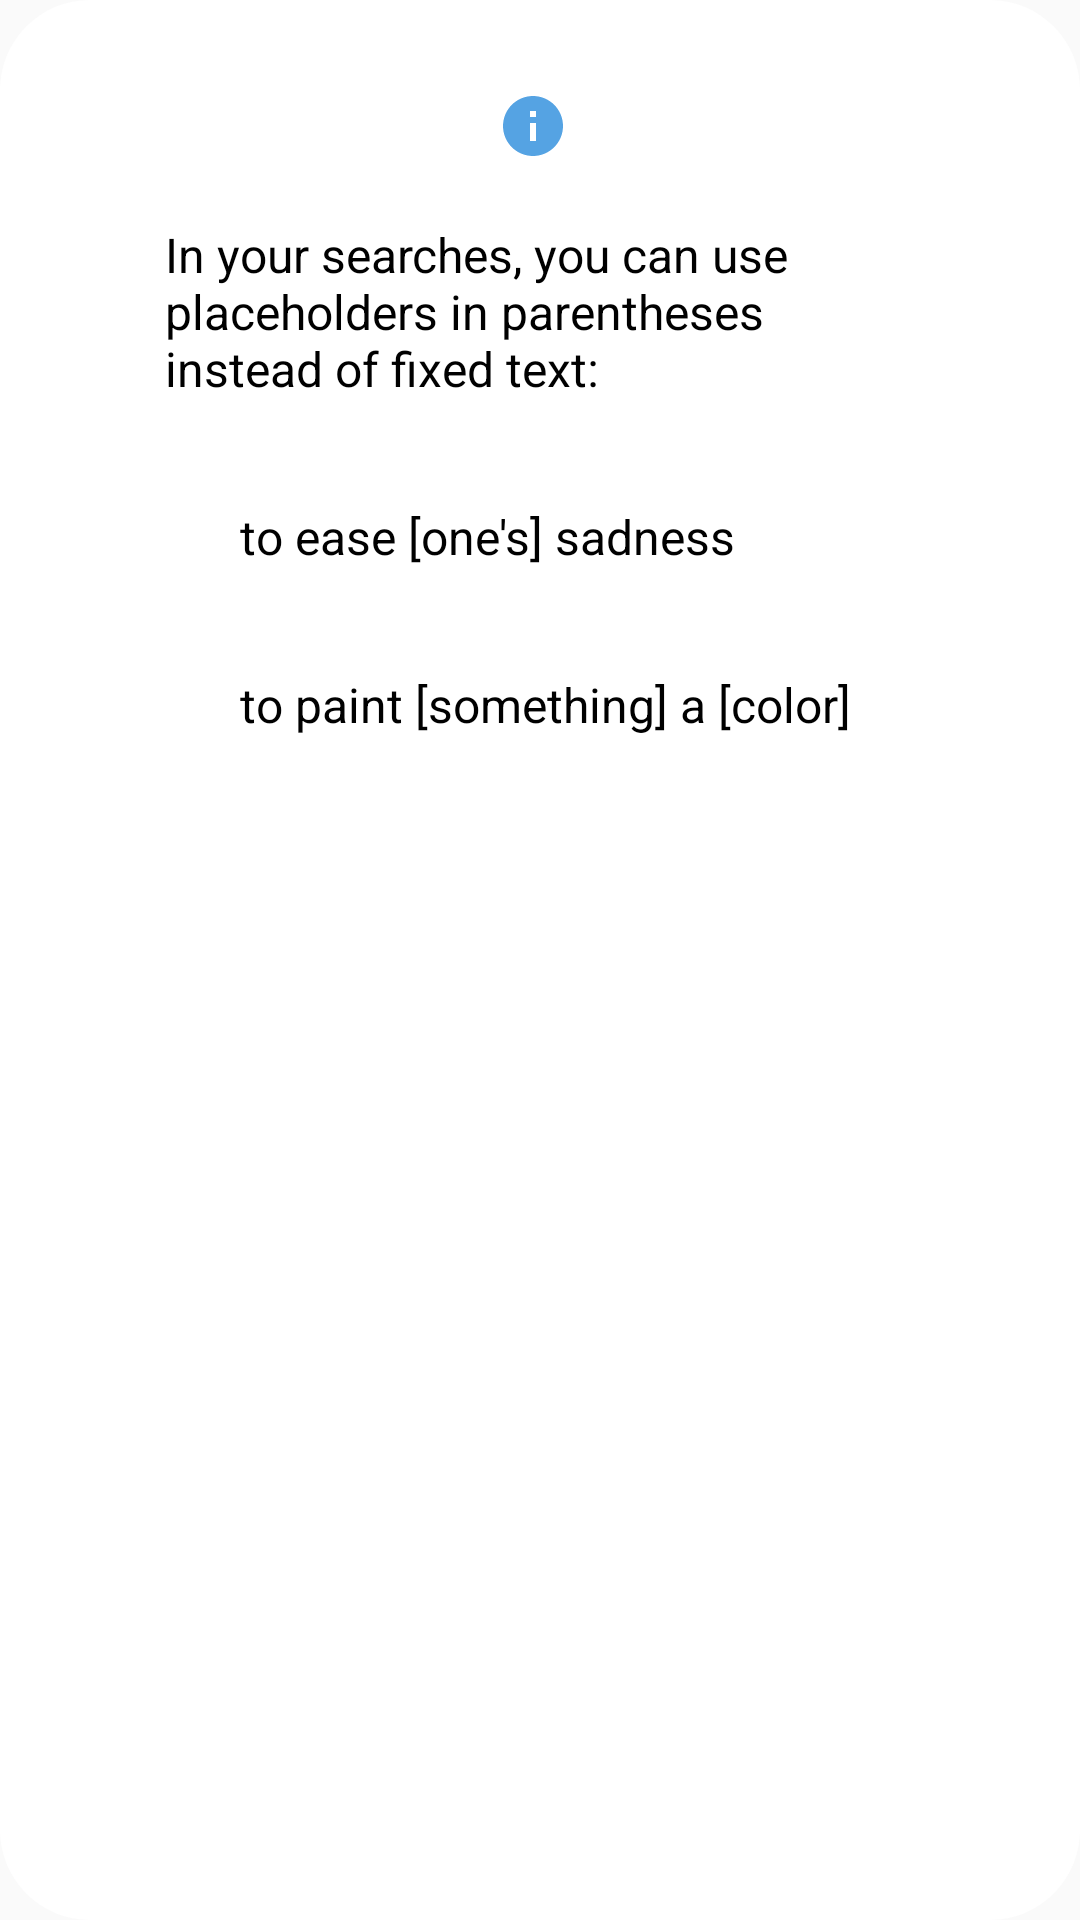

Icons on this 1080×1920 Android screen, each with the point to tap as [x,y]:
info: [533,126]
